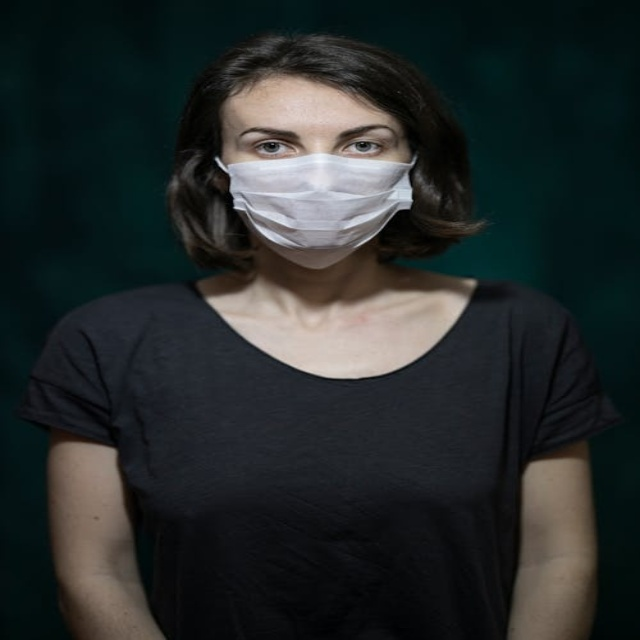Mascara: (215, 148, 420, 262)
Sin_gafas: (228, 118, 406, 161)
